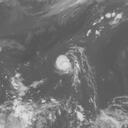cyclone: (51, 46, 95, 83)
